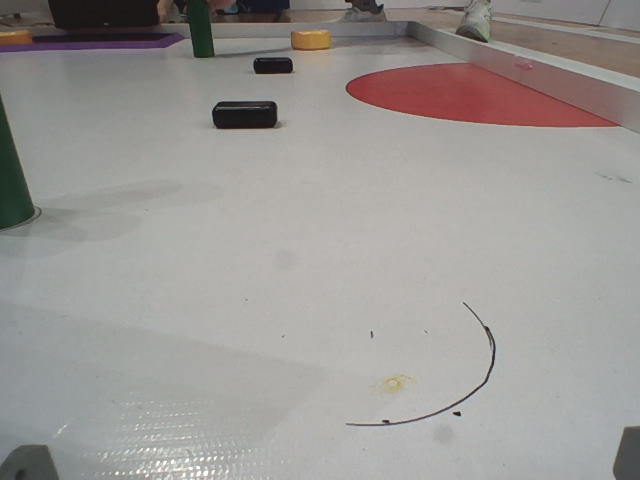black: (210, 101, 276, 129), (253, 55, 297, 77)
kuang: (1, 32, 188, 54)
yellow: (287, 29, 332, 50), (1, 27, 36, 47)
zhuzi: (1, 89, 36, 232), (187, 1, 218, 61)
